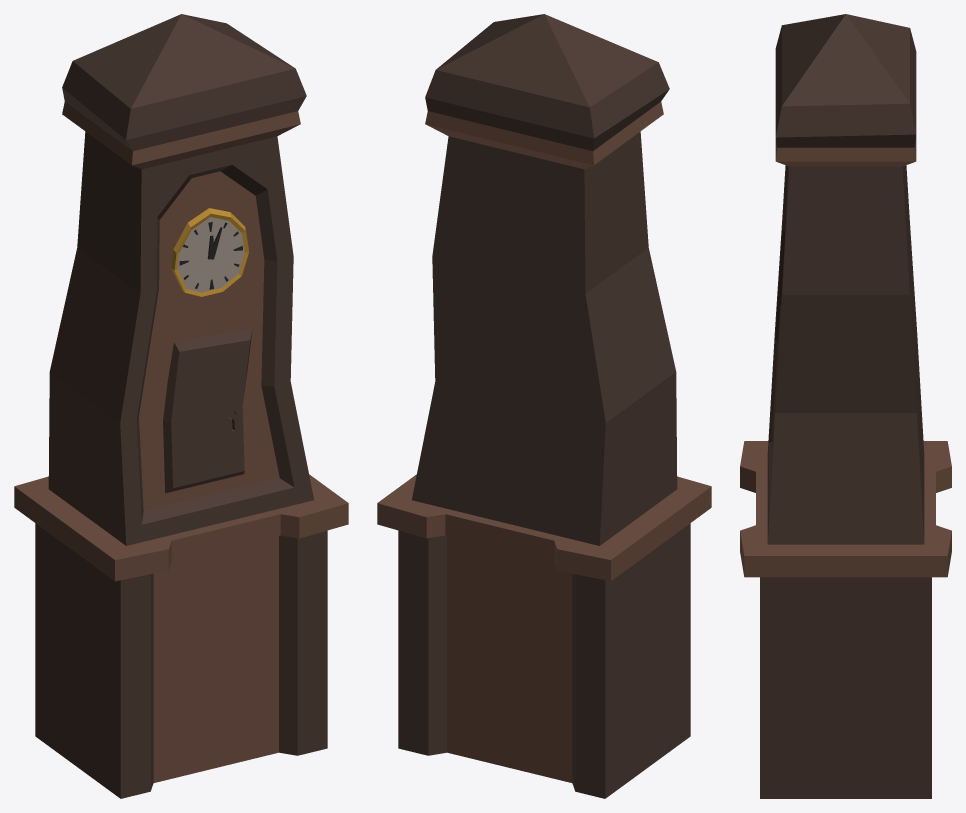
Rendered from LPHorror_GrandFatherClockB.fbx.
3 views of the same model, side by side, from view 1: azimuth 30°, elevation 25°; view 2: azimuth 150°, elevation 25°; view 3: azimuth 270°, elevation 25° (orthographic).
Parts seen in each view (by area): view 1: GrandFatherClockB; view 2: GrandFatherClockB; view 3: GrandFatherClockB.
Boxes of the visible parts, x1=… form: GrandFatherClockB: x1=14, y1=14, x2=348, y2=798; GrandFatherClockB: x1=377, y1=14, x2=711, y2=798; GrandFatherClockB: x1=740, y1=14, x2=951, y2=798.
Bounding box in the file's own units: 116 × 347 × 90.77.
